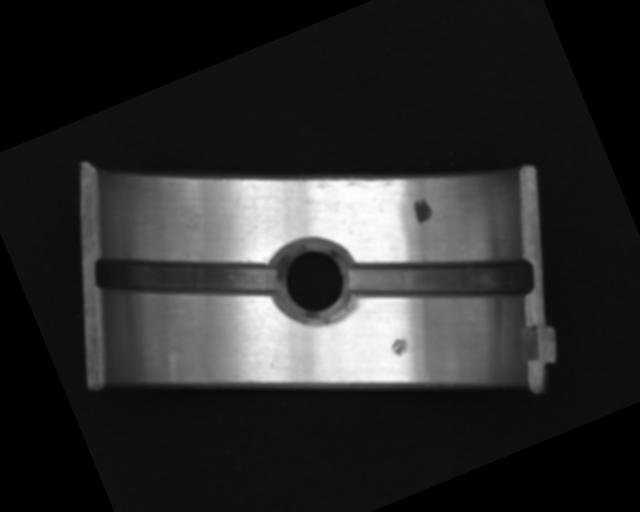blot: (408, 195, 436, 226)
bruise: (388, 334, 413, 360)
gap: (342, 201, 540, 355), (89, 199, 286, 353)
hole: (266, 233, 364, 335)
